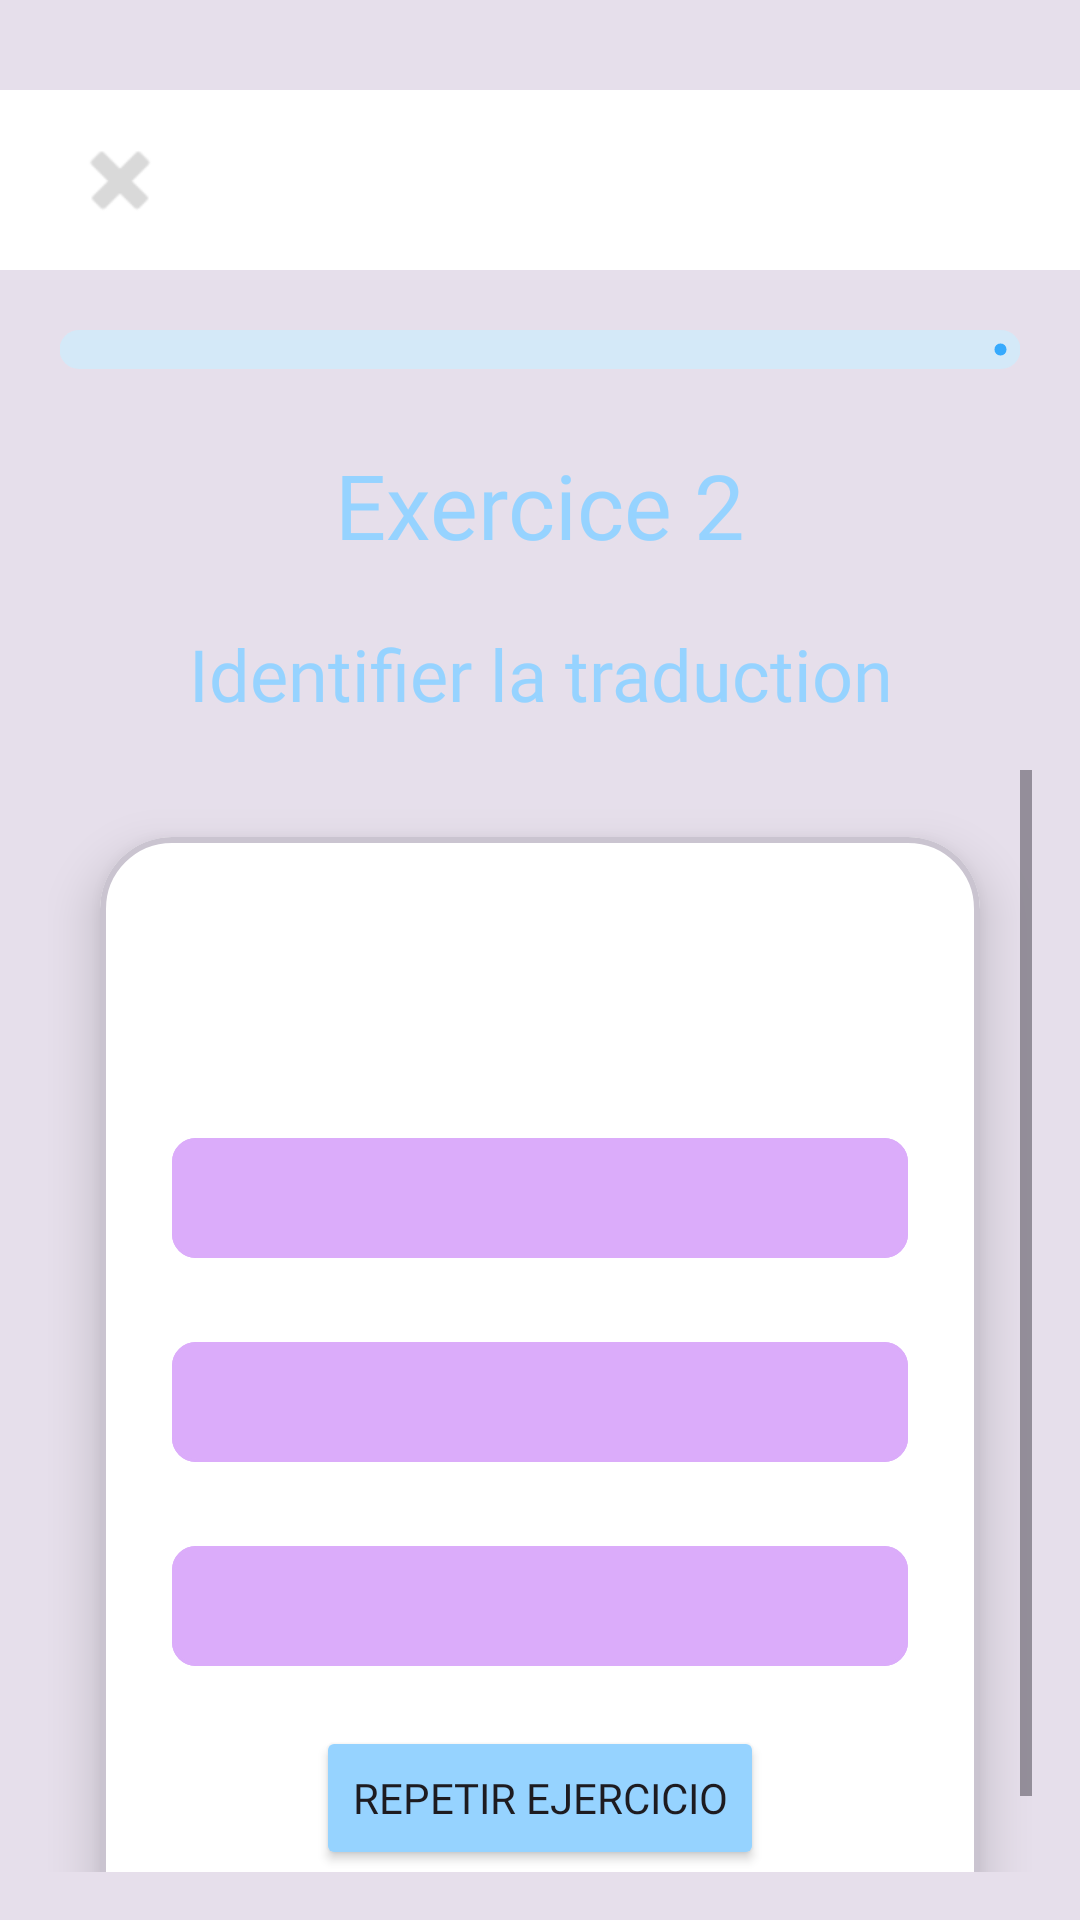

Icons on this 1080 x 1920 Android screen, each with the point to tap as point (x, y):
Cerrar: point (120, 180)
